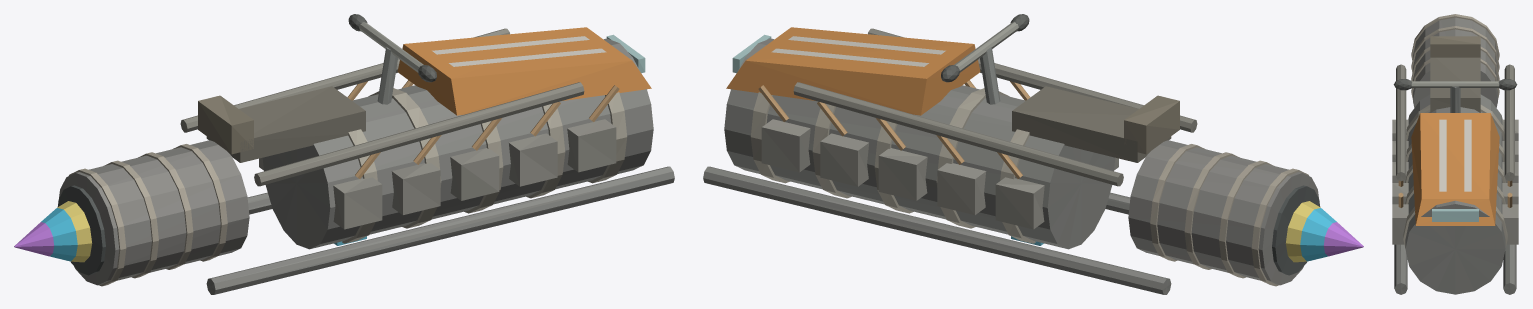
Rendered from airbike_orange_start.glb.
The picture shows the model from 3 angles, left to right: view 1: azimuth 30°, elevation 25°; view 2: azimuth 150°, elevation 25°; view 3: azimuth 270°, elevation 25°; orthographic projection. The views are drawn at different scales.
Visible parts, largest first — view 1: main_engine, rear_turbine, yellow_front_cover, lower_frame_-0.37, seat, upper_frame_-0.37, rear_seat_riser, engine_block_-0.37_4, engine_block_-0.37_2, engine_block_-0.37_0, engine_block_-0.37_3, engine_block_-0.37_1 (+18 smaller); view 2: main_engine, rear_turbine, yellow_front_cover, lower_frame_0.37, seat, upper_frame_0.37, rear_seat_riser, engine_block_0.37_4, engine_block_0.37_2, engine_block_0.37_0, engine_block_0.37_3, engine_block_0.37_1 (+18 smaller); view 3: main_engine, yellow_front_cover, rear_turbine, seat, upper_frame_-0.37, upper_frame_0.37, rear_seat_riser, lower_frame_-0.37, lower_frame_0.37, handlebar, front_light, racing_stripe_0 (+23 smaller).
Boxes of the visible parts, <box> form: main_engine: <box>262,38,653,249</box>; rear_turbine: <box>59,140,249,285</box>; yellow_front_cover: <box>397,27,651,115</box>; lower_frame_-0.37: <box>206,166,674,294</box>; seat: <box>206,86,365,162</box>; upper_frame_-0.37: <box>254,82,584,186</box>; rear_seat_riser: <box>198,95,253,154</box>; engine_block_-0.37_4: <box>567,119,616,172</box>; engine_block_-0.37_2: <box>450,148,499,200</box>; engine_block_-0.37_0: <box>333,177,382,229</box>; engine_block_-0.37_3: <box>509,133,557,186</box>; engine_block_-0.37_1: <box>391,163,440,214</box>; main_engine: <box>724,38,1115,249</box>; rear_turbine: <box>1128,140,1318,285</box>; yellow_front_cover: <box>726,27,980,115</box>; lower_frame_0.37: <box>703,166,1171,294</box>; seat: <box>1012,86,1171,162</box>; upper_frame_0.37: <box>793,82,1123,186</box>; rear_seat_riser: <box>1124,95,1179,154</box>; engine_block_0.37_4: <box>761,119,810,172</box>; engine_block_0.37_2: <box>878,148,927,200</box>; engine_block_0.37_0: <box>995,177,1044,229</box>; engine_block_0.37_3: <box>820,133,868,186</box>; engine_block_0.37_1: <box>937,163,986,214</box>; main_engine: <box>1405,94,1505,294</box>; yellow_front_cover: <box>1411,113,1499,225</box>; rear_turbine: <box>1413,16,1497,107</box>; seat: <box>1430,57,1480,112</box>; upper_frame_-0.37: <box>1396,64,1406,181</box>; upper_frame_0.37: <box>1504,64,1514,181</box>; rear_seat_riser: <box>1430,36,1480,57</box>; lower_frame_-0.37: <box>1394,244,1407,294</box>; lower_frame_0.37: <box>1503,244,1516,294</box>; handlebar: <box>1411,81,1499,87</box>; front_light: <box>1432,209,1478,221</box>; racing_stripe_0: <box>1439,119,1446,191</box>.
Bounding box in the file's own units: 3.6 × 1.01 × 0.86.
